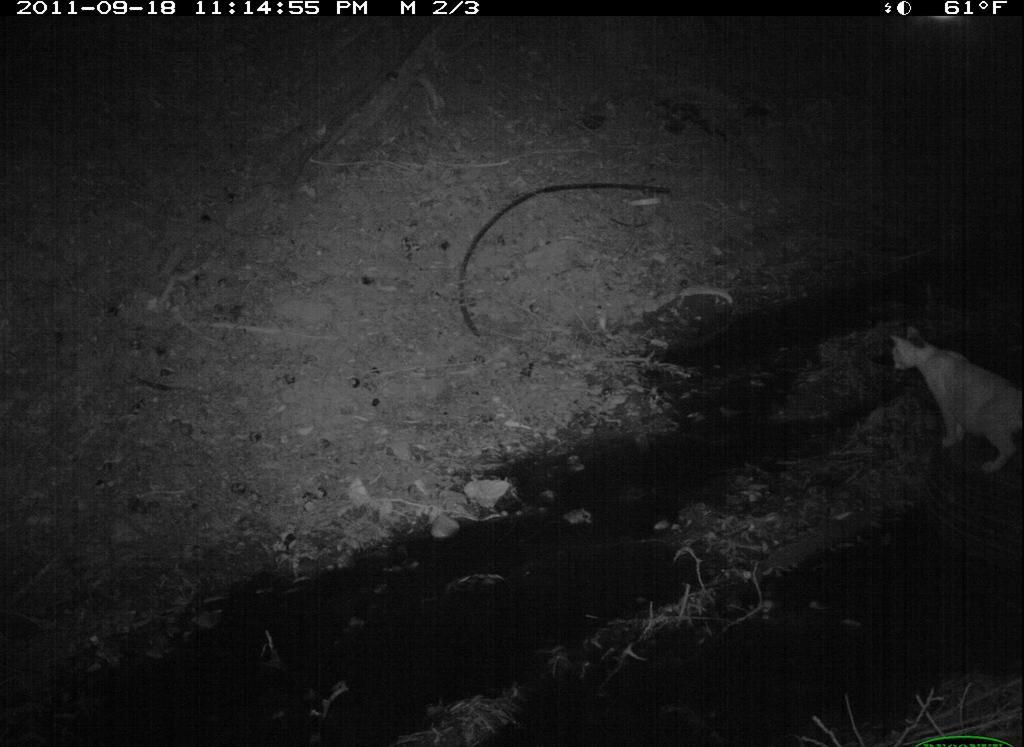cat: (884, 319, 1023, 483)
